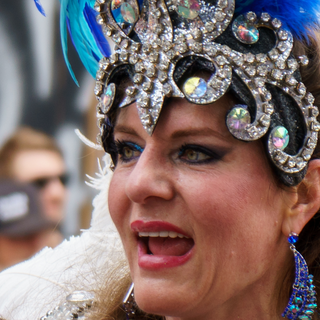eye: (171, 142, 227, 167), (113, 139, 147, 162)
